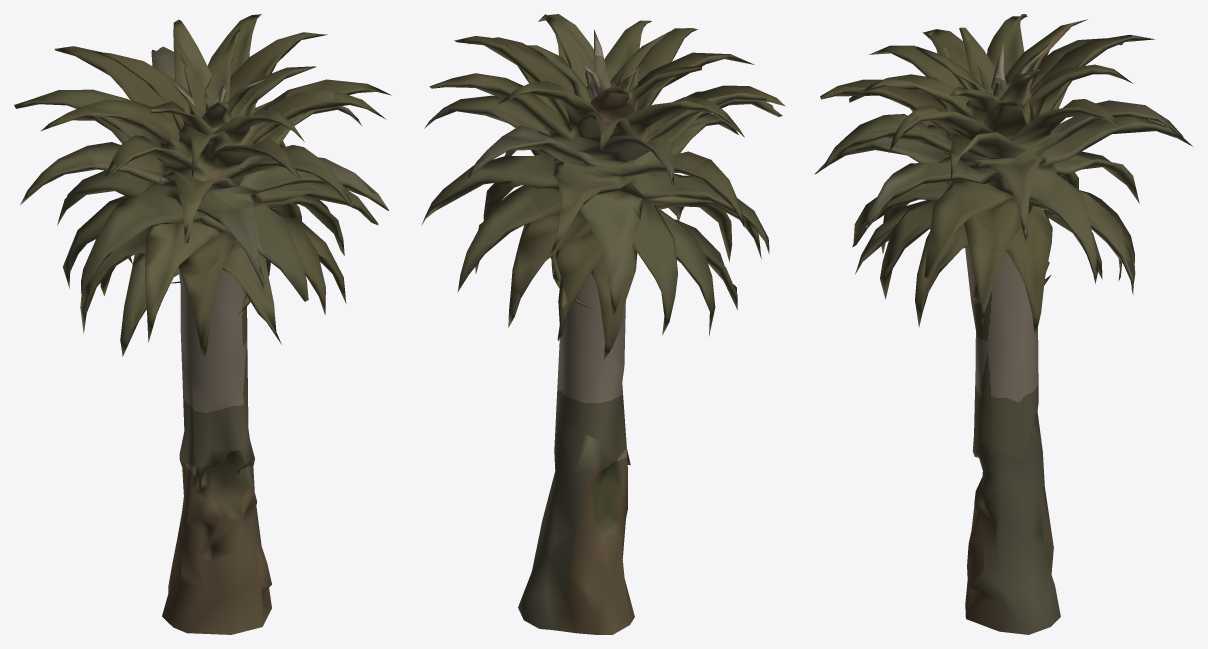
Rendered from ph_quiver_2.glb.
The picture shows the model from 3 angles, left to right: view 1: azimuth 30°, elevation 25°; view 2: azimuth 150°, elevation 25°; view 3: azimuth 270°, elevation 25°; orthographic projection. The views are drawn at different scales.
Parts seen in each view (by area): view 1: ph_quiver_2_lod1; view 2: ph_quiver_2_lod1; view 3: ph_quiver_2_lod1.
Part boxes in pixels (x1,y1,x2,y2): ph_quiver_2_lod1: (14,14,391,634); ph_quiver_2_lod1: (421,14,785,634); ph_quiver_2_lod1: (814,14,1192,634).
Bounding box in the file's own units: 0.8631 × 1.41 × 0.8732.
1 material, 1 textured.
